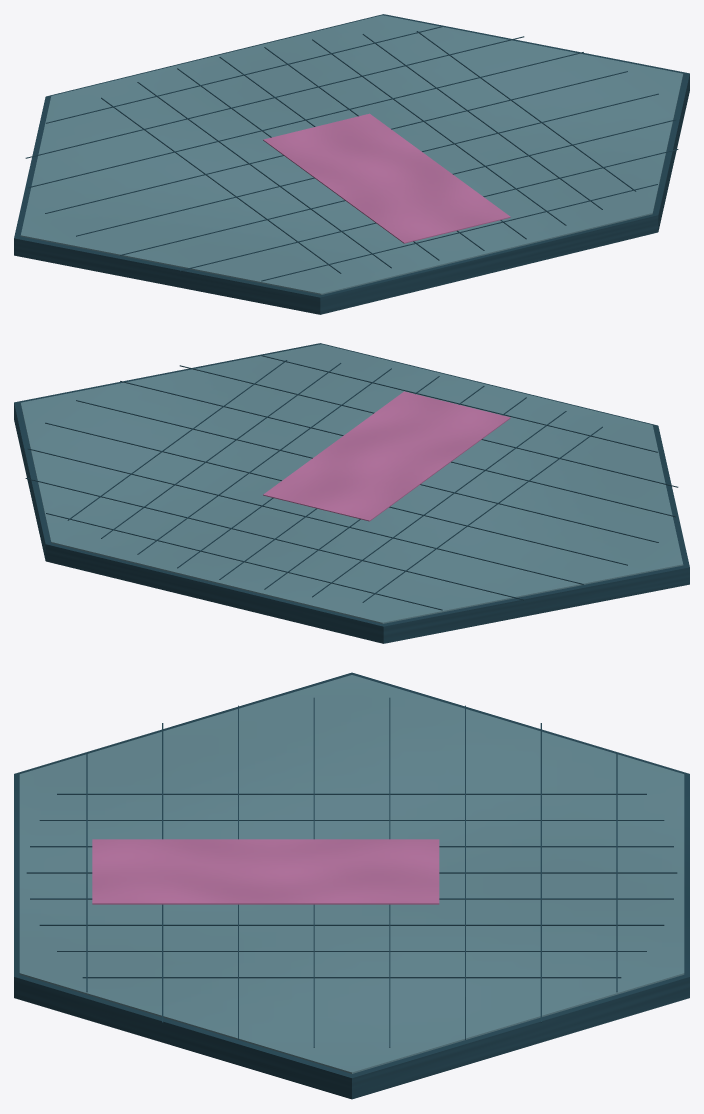
File: atlas100-s062-a07.lod1.glb
The picture shows the model from 3 angles, top to bottom: view 1: azimuth 30°, elevation 25°; view 2: azimuth 150°, elevation 25°; view 3: azimuth 270°, elevation 25°; orthographic projection. The views are drawn at different scales.
Parts seen in each view (by area): view 1: atlas100-s062-a07:part-001, atlas100-s062-a07:part-000, atlas100-s062-a07:part-021, atlas100-s062-a07:part-015, atlas100-s062-a07:part-014, atlas100-s062-a07:part-016, atlas100-s062-a07:part-017, atlas100-s062-a07:part-018, atlas100-s062-a07:part-013, atlas100-s062-a07:part-020, atlas100-s062-a07:part-019, atlas100-s062-a07:part-009 (+3 smaller); view 2: atlas100-s062-a07:part-001, atlas100-s062-a07:part-000, atlas100-s062-a07:part-021, atlas100-s062-a07:part-015, atlas100-s062-a07:part-014, atlas100-s062-a07:part-017, atlas100-s062-a07:part-016, atlas100-s062-a07:part-018, atlas100-s062-a07:part-020, atlas100-s062-a07:part-013, atlas100-s062-a07:part-019, atlas100-s062-a07:part-009 (+3 smaller); view 3: atlas100-s062-a07:part-001, atlas100-s062-a07:part-021, atlas100-s062-a07:part-000, atlas100-s062-a07:part-009, atlas100-s062-a07:part-004, atlas100-s062-a07:part-011.
Part boxes in pixels (left/top/right/bottom): atlas100-s062-a07:part-001: left=20, top=15, right=683, bottom=294; atlas100-s062-a07:part-000: left=14, top=14, right=689, bottom=314; atlas100-s062-a07:part-021: left=263, top=113, right=510, bottom=243; atlas100-s062-a07:part-015: left=27, top=52, right=583, bottom=188; atlas100-s062-a07:part-014: left=25, top=36, right=524, bottom=158; atlas100-s062-a07:part-016: left=45, top=71, right=627, bottom=213; atlas100-s062-a07:part-017: left=76, top=93, right=658, bottom=236; atlas100-s062-a07:part-018: left=120, top=119, right=675, bottom=255; atlas100-s062-a07:part-013: left=46, top=26, right=442, bottom=123; atlas100-s062-a07:part-020: left=261, top=184, right=657, bottom=281; atlas100-s062-a07:part-019: left=179, top=149, right=678, bottom=271; atlas100-s062-a07:part-009: left=312, top=39, right=566, bottom=225; atlas100-s062-a07:part-001: left=20, top=344, right=683, bottom=623; atlas100-s062-a07:part-000: left=14, top=343, right=689, bottom=643; atlas100-s062-a07:part-021: left=263, top=391, right=510, bottom=521; atlas100-s062-a07:part-015: left=28, top=448, right=583, bottom=584; atlas100-s062-a07:part-014: left=25, top=478, right=524, bottom=600; atlas100-s062-a07:part-017: left=76, top=400, right=658, bottom=542; atlas100-s062-a07:part-016: left=45, top=422, right=627, bottom=565; atlas100-s062-a07:part-018: left=120, top=381, right=676, bottom=517; atlas100-s062-a07:part-020: left=261, top=355, right=657, bottom=452; atlas100-s062-a07:part-013: left=46, top=513, right=442, bottom=610; atlas100-s062-a07:part-019: left=179, top=365, right=678, bottom=487; atlas100-s062-a07:part-009: left=137, top=368, right=391, bottom=554; atlas100-s062-a07:part-001: left=19, top=675, right=684, bottom=1073; atlas100-s062-a07:part-021: left=92, top=839, right=439, bottom=904; atlas100-s062-a07:part-000: left=14, top=672, right=689, bottom=1099; atlas100-s062-a07:part-009: left=39, top=924, right=664, bottom=925; atlas100-s062-a07:part-004: left=57, top=793, right=646, bottom=794; atlas100-s062-a07:part-011: left=82, top=977, right=621, bottom=978.
Bounding box in the file's own units: 13.95 × 0.404 × 9.82.
3 materials, 3 textured.
